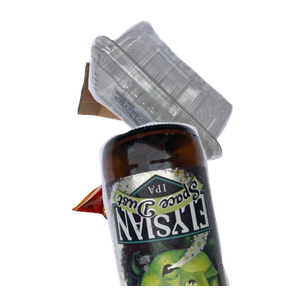cardboard: (75, 59, 237, 176)
glass: (97, 120, 300, 300)
plastic: (86, 18, 300, 171)
trash: (69, 153, 239, 300)
